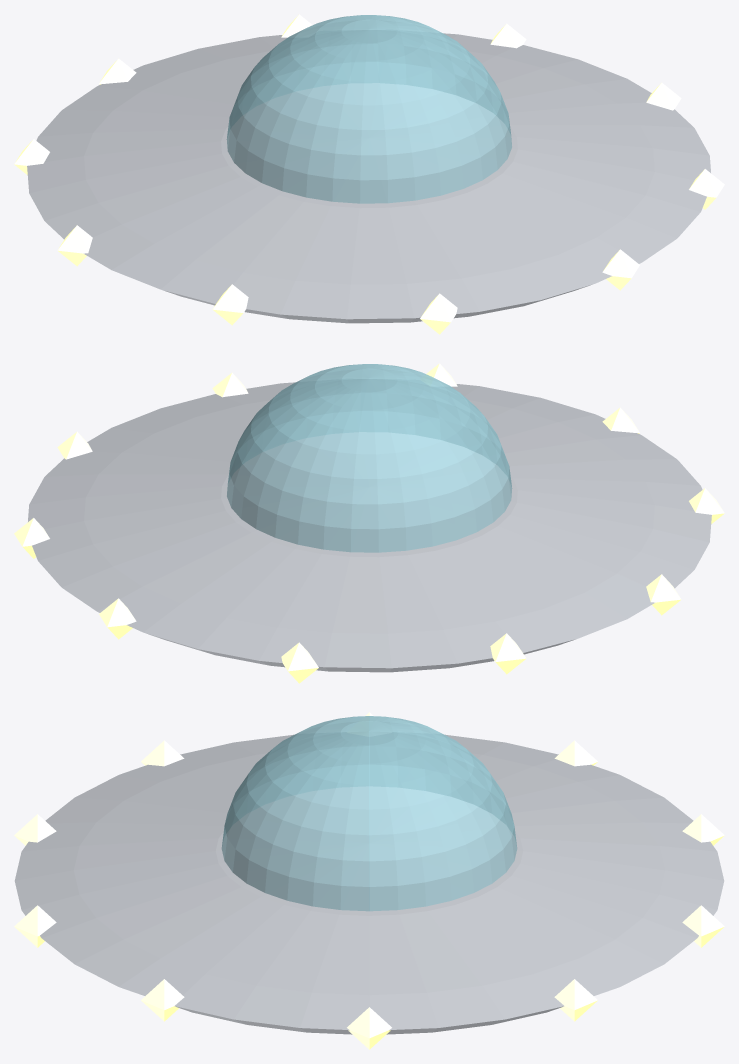
Rendered from ufo.glb.
3 renders of one model, top to bottom at view 1: azimuth 30°, elevation 25°; view 2: azimuth 150°, elevation 25°; view 3: azimuth 270°, elevation 25°, orthographic. The views are drawn at different scales.
Bounding box in the file's own units: 6.3 × 2.02 × 6.01.
